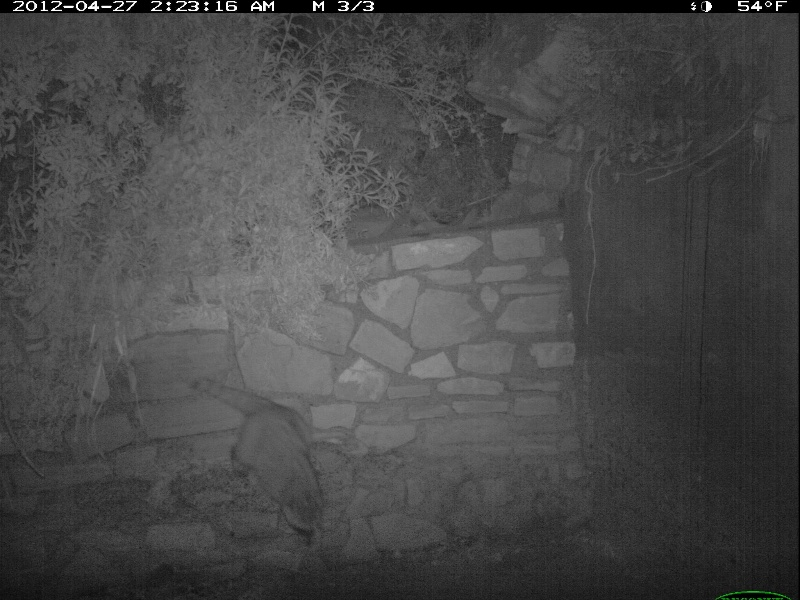raccoon: (188, 374, 326, 549)
